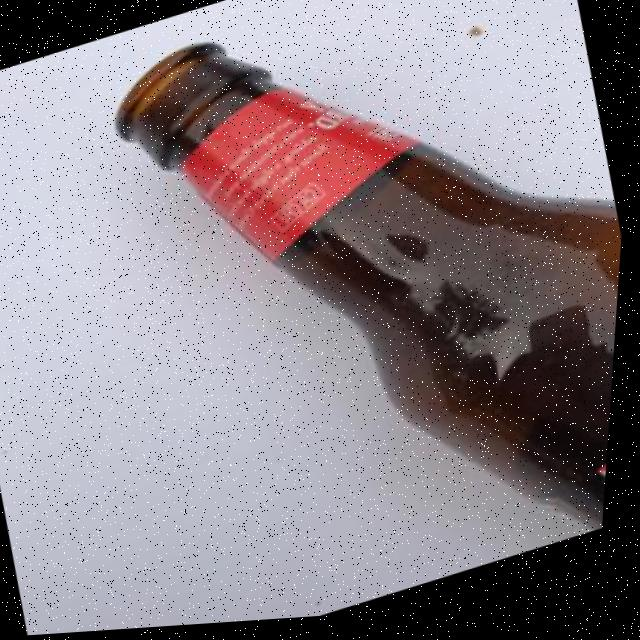glass: (48, 0, 640, 636)
